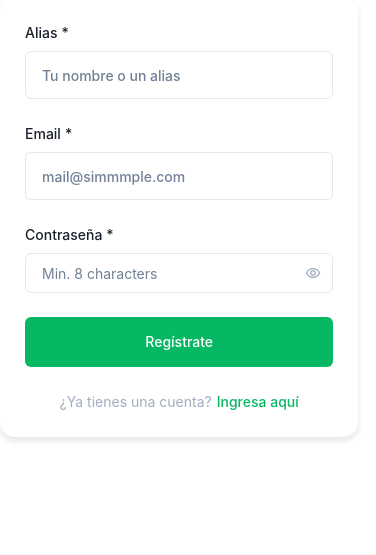
Scenario: FormR Component › debería eliminar el mensaje de error si el registro es exitoso
Type "John" into the field with placeholder "Tu nombre o un alias" at (179, 75), box [25, 51, 333, 99]
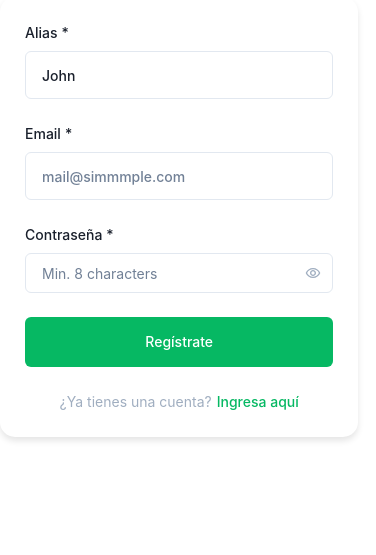
Type "test@example.com" into the field with placeholder "mail@simmmple.com" at (179, 176), box [25, 152, 333, 200]
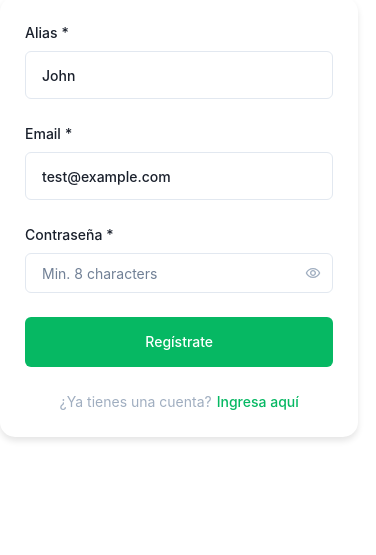
Type "password123" into the password field with placeholder "Min. 8 characters" at (179, 273), box [25, 253, 333, 293]
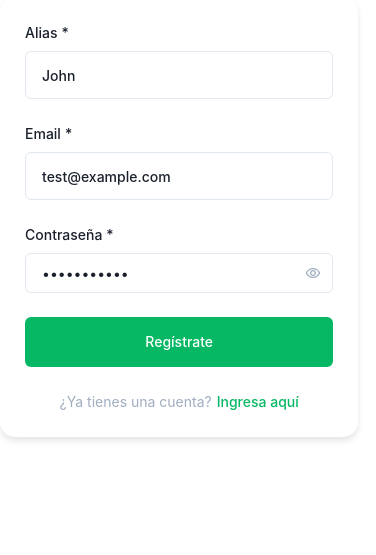
Click the button "Regístrate" at (179, 342), box [25, 317, 333, 367]
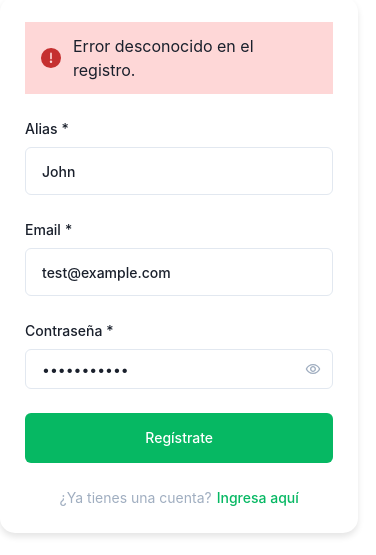
Now the text "Error desconocido en el registro." is shown, box [25, 22, 333, 94]
// Simular otro clic en el botón de registro
Click the button "Regístrate" at (179, 438), box [25, 413, 333, 463]
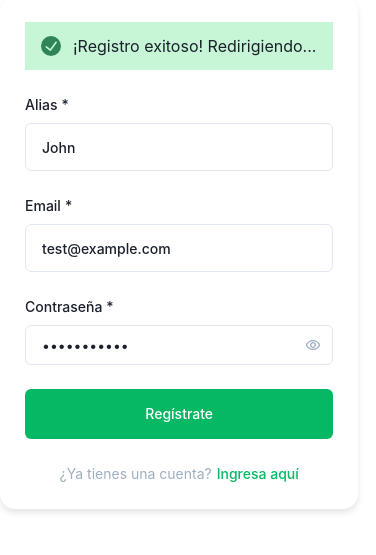
Now the text "Error desconocido en el registro." is gone
Now the text "¡Registro exitoso! Redirigiendo..." is shown, box [25, 22, 333, 70]
